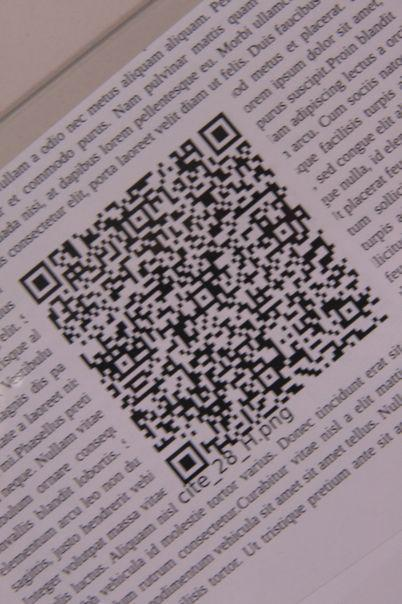Finder pattern: (160, 435, 215, 490), (17, 260, 67, 309), (197, 108, 241, 157)
